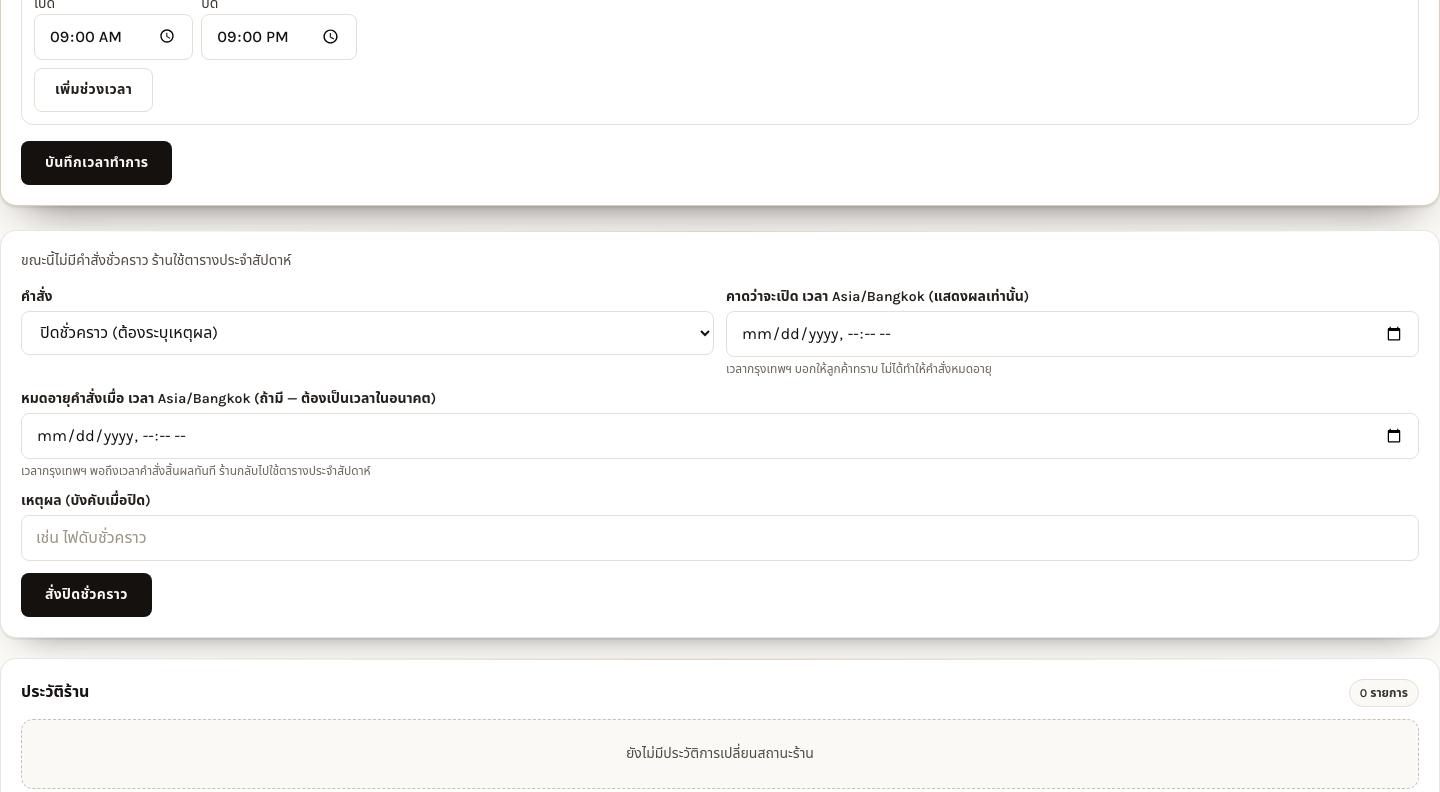
Test: หน้าจัดการร้าน (Owner/Admin) › สั่งปิดชั่วคราวสำเร็จแสดงข้อความ และล้างคำสั่งได้
(page scrolled)
In the field labelled "เหตุผล (บังคับเมื่อปิด)": x=720, y=538 [21,514,1419,560], type "ไฟดับ"
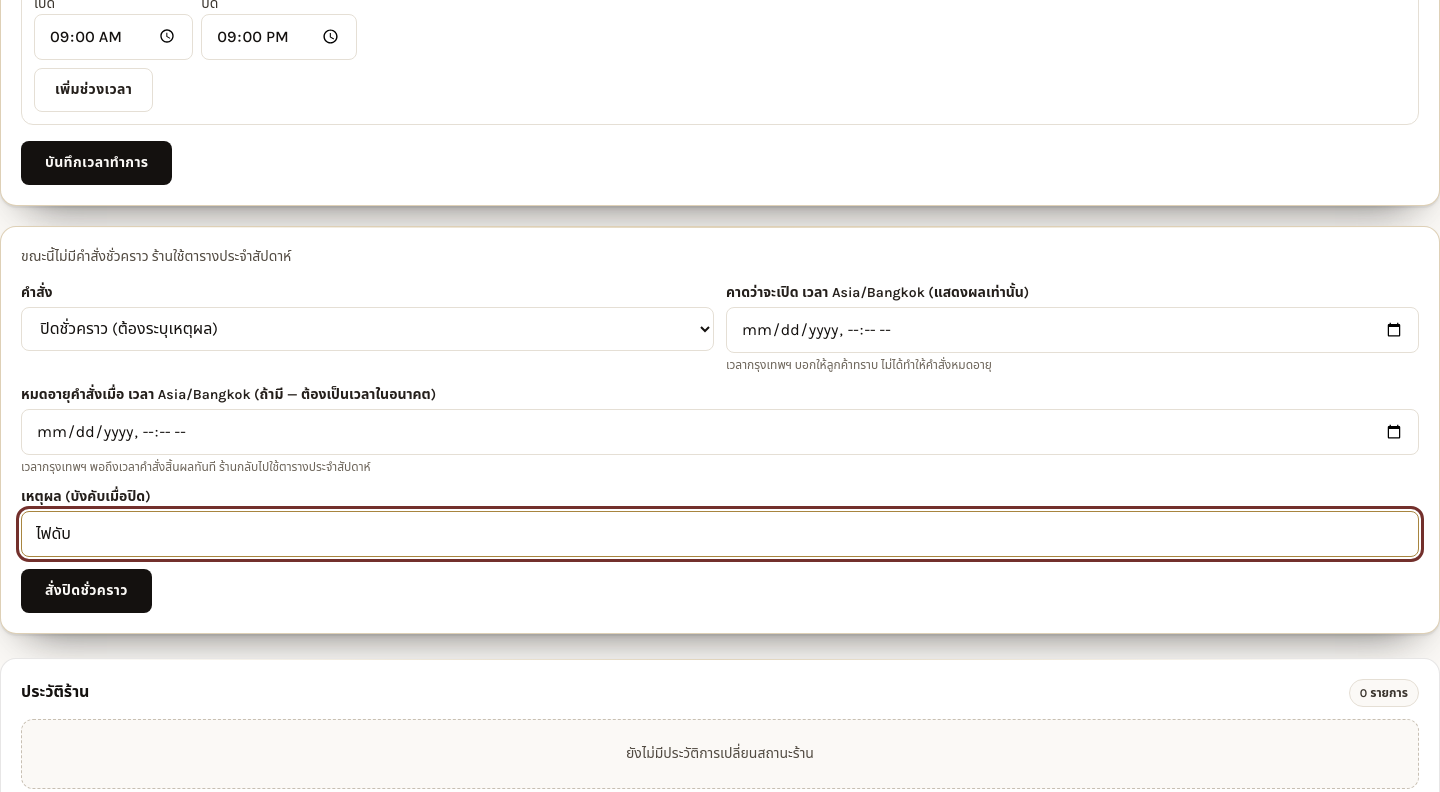
Click the button "สั่งปิดชั่วคราว": x=86, y=590 [21,568,152,612]
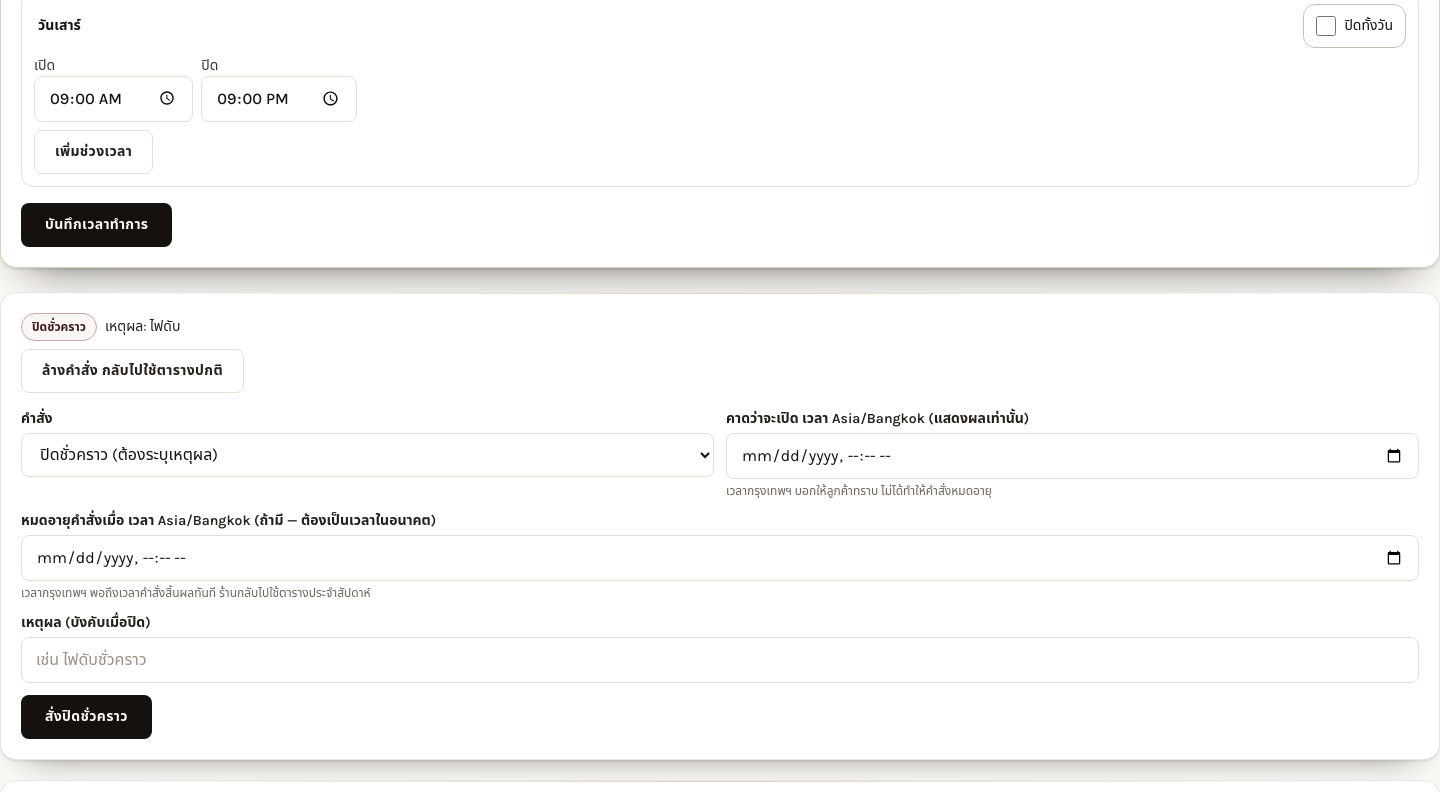
Click the button "ล้างคำสั่ง กลับไปใช้ตารางปกติ": x=132, y=370 [21,348,244,392]
(page scrolled)
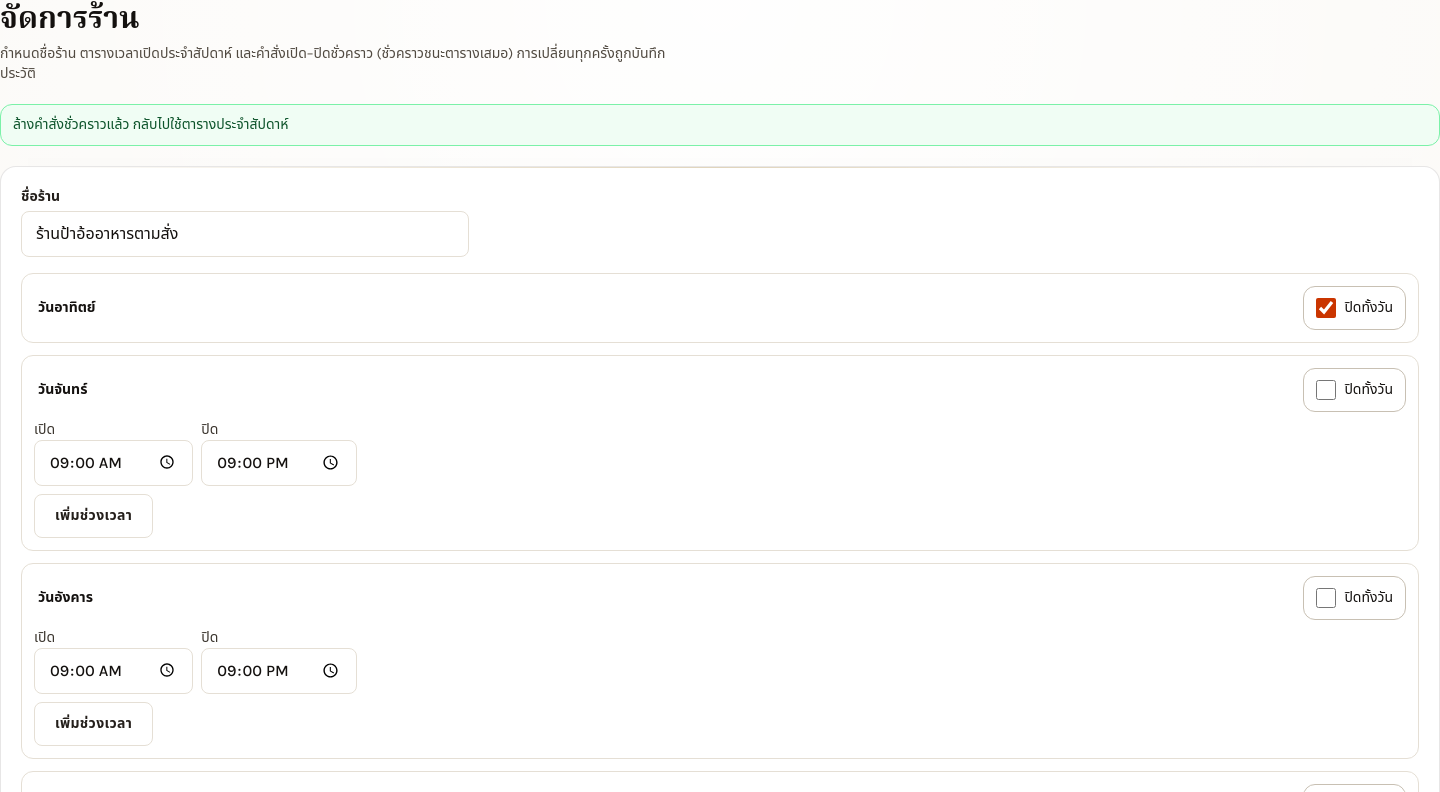
Expected: the message shows "ล้างคำสั่งชั่วคราวแล้ว", [13,116,288,132]
